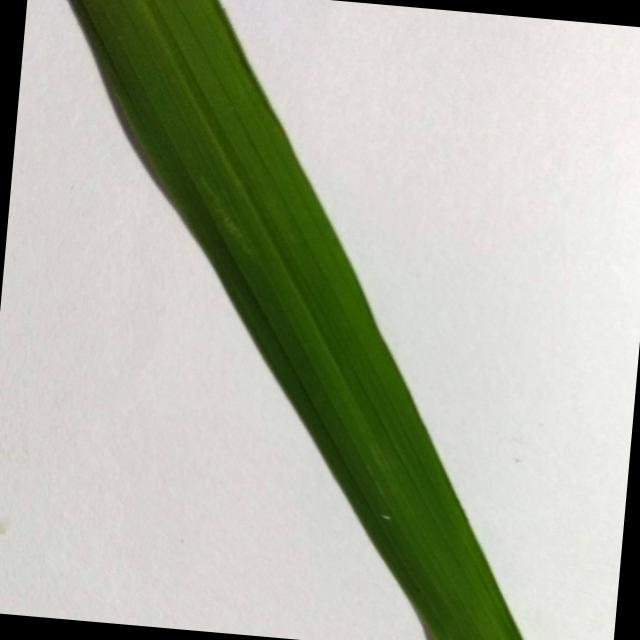Rice_Healthy: (71, 0, 523, 640)
